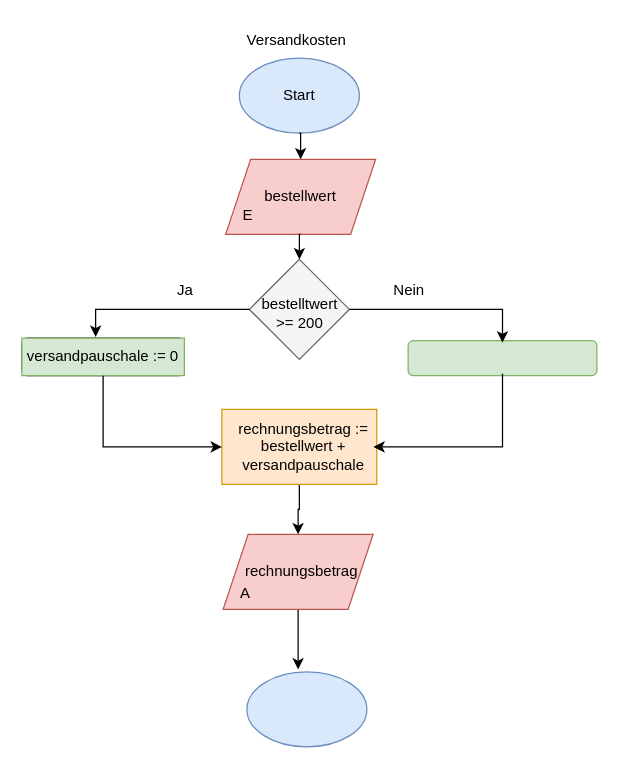
This 619x769 diagram has some shape labels left out. Each missing label, with the centre of its shape:
End: pixel 306 709
versandpauschale := 5.5: pixel 502 357
